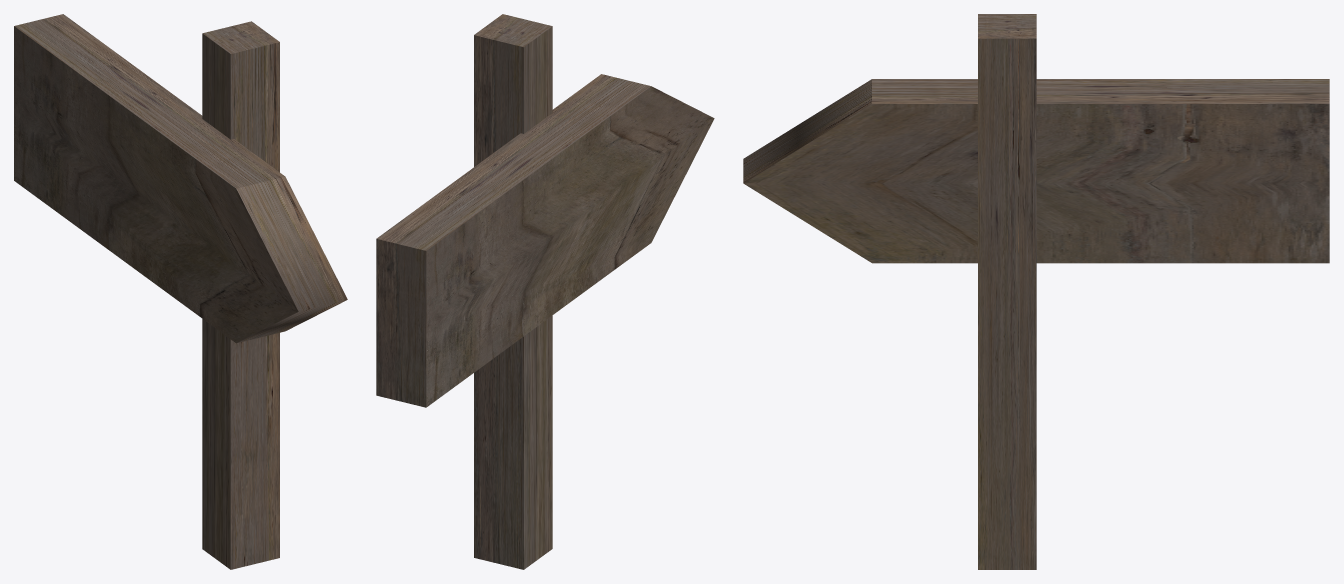
The model's file is senial.obj.
3 views of the same model, side by side, from view 1: azimuth 30°, elevation 25°; view 2: azimuth 150°, elevation 25°; view 3: azimuth 270°, elevation 25° (orthographic). The views are drawn at different scales.
Parts seen in each view (by area): view 1: group1 pCube2, pCube1 group1; view 2: group1 pCube2, pCube1 group1; view 3: group1 pCube2, pCube1 group1.
Part boxes in pixels (left/top/right/bottom): group1 pCube2: left=14, top=14, right=347, bottom=343; pCube1 group1: left=202, top=21, right=279, bottom=569; group1 pCube2: left=376, top=74, right=714, bottom=407; pCube1 group1: left=474, top=14, right=552, bottom=569; group1 pCube2: left=743, top=79, right=1329, bottom=263; pCube1 group1: left=978, top=14, right=1036, bottom=569.
Bounding box in the file's own units: 0.1933 × 1 × 1.
Materials: 1 (1 with a texture image).
